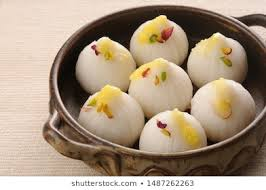modak: (123, 51, 204, 119), (143, 109, 223, 166), (78, 80, 146, 145), (193, 77, 254, 141), (76, 31, 135, 95), (191, 33, 260, 83), (124, 15, 194, 64)
